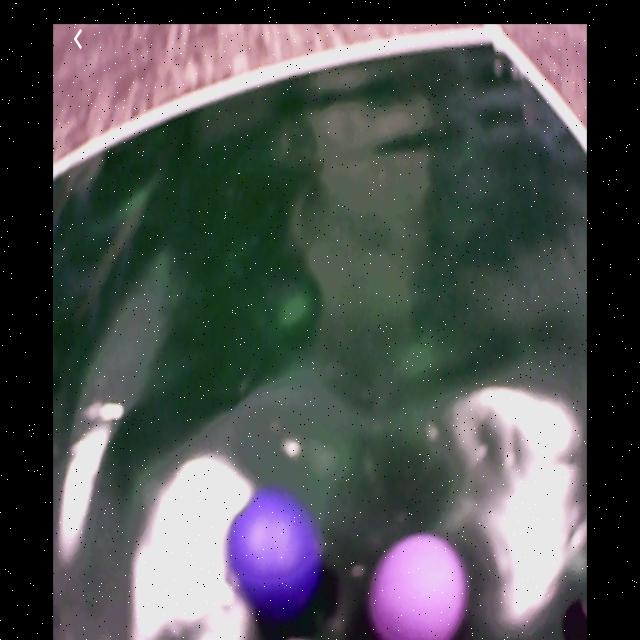ball: (228, 492, 321, 614), (373, 532, 467, 640)
